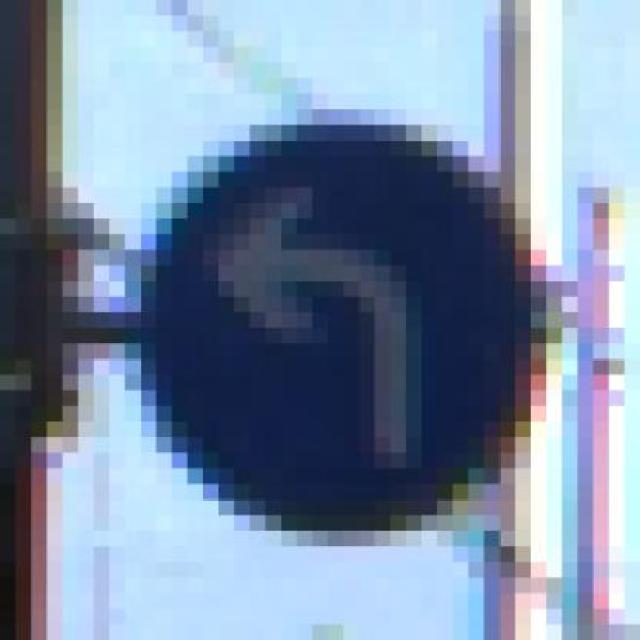Turn left ahead: (125, 109, 578, 546)
